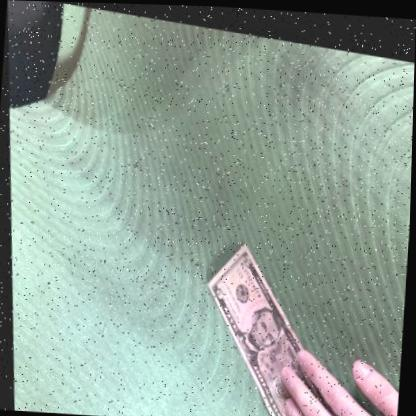five-front: (204, 236, 337, 416)
